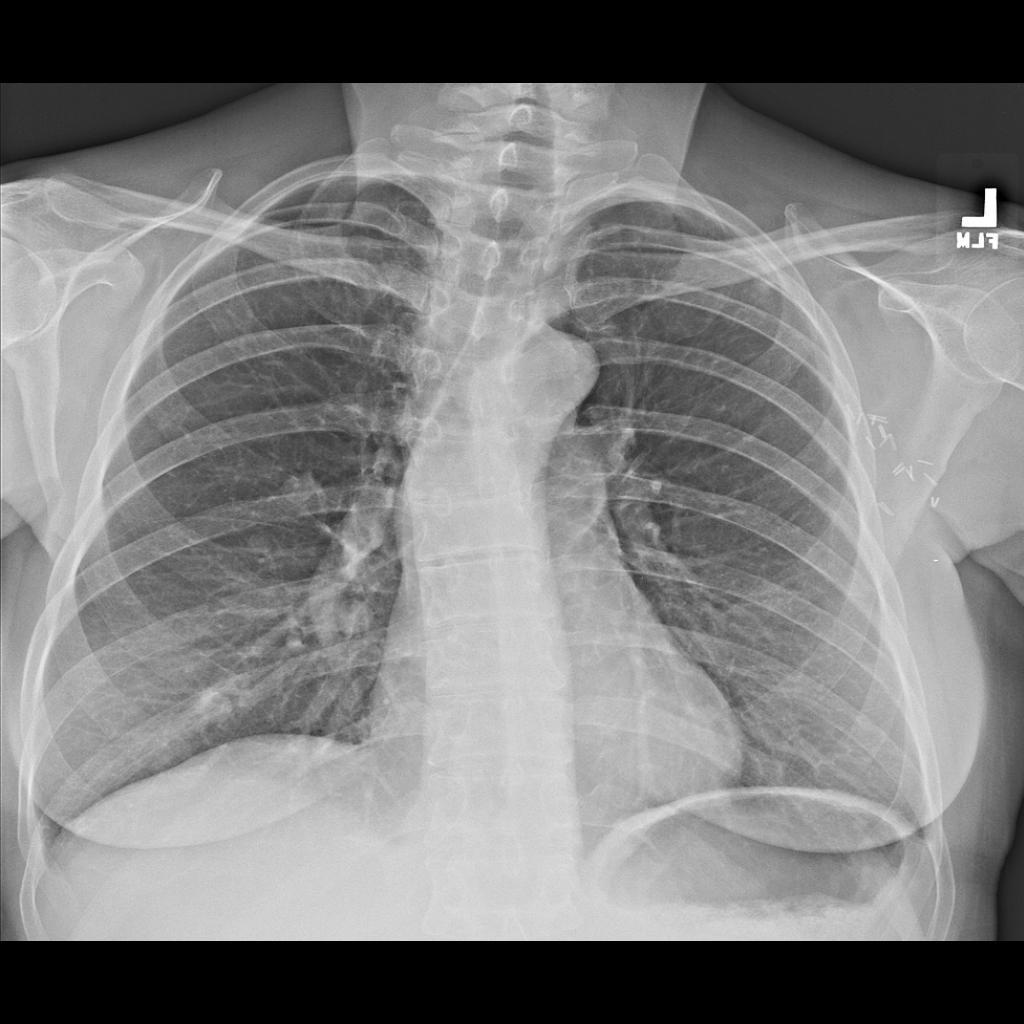Nodule: (191, 678, 241, 739), (283, 467, 321, 519), (245, 535, 276, 561)
